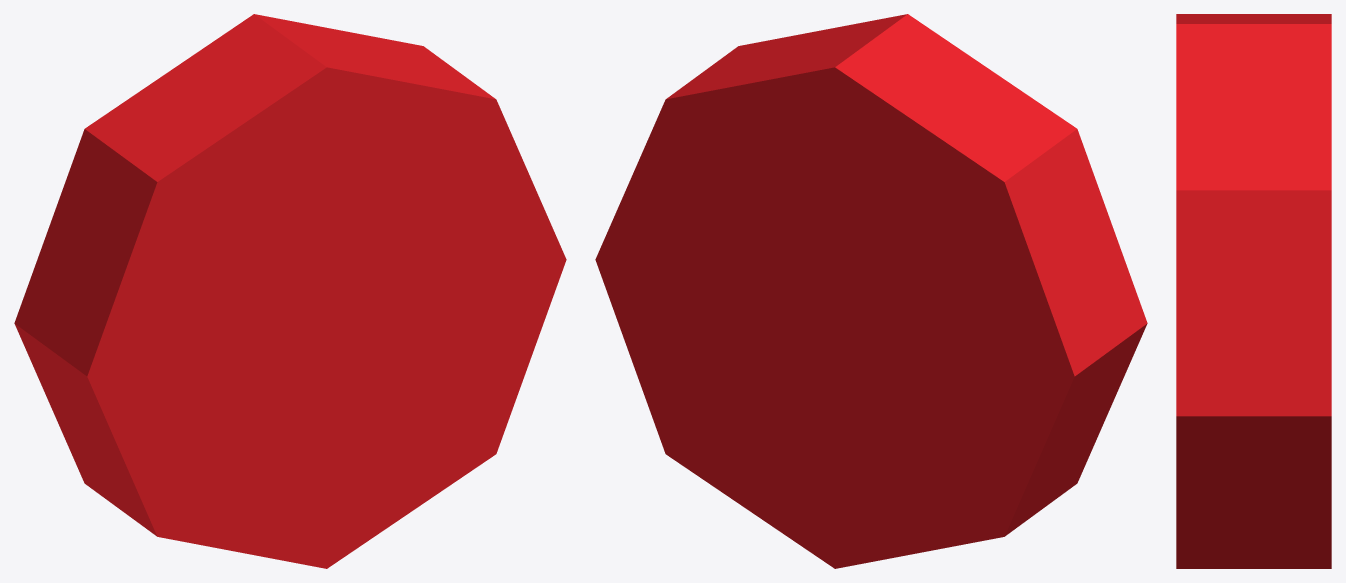
Rendered from Boton01.fbx.
3 renders of one model, left to right at view 1: azimuth 30°, elevation 25°; view 2: azimuth 150°, elevation 25°; view 3: azimuth 270°, elevation 25°, orthographic. The views are drawn at different scales.
Visible parts, largest first — view 1: Boton01; view 2: Boton01; view 3: Boton01.
Part boxes in pixels (left/top/right/bottom): Boton01: left=14, top=14, right=566, bottom=568; Boton01: left=595, top=14, right=1147, bottom=568; Boton01: left=1176, top=14, right=1331, bottom=568.
Size of the model in its own units: 10 by 10 by 2.63.
